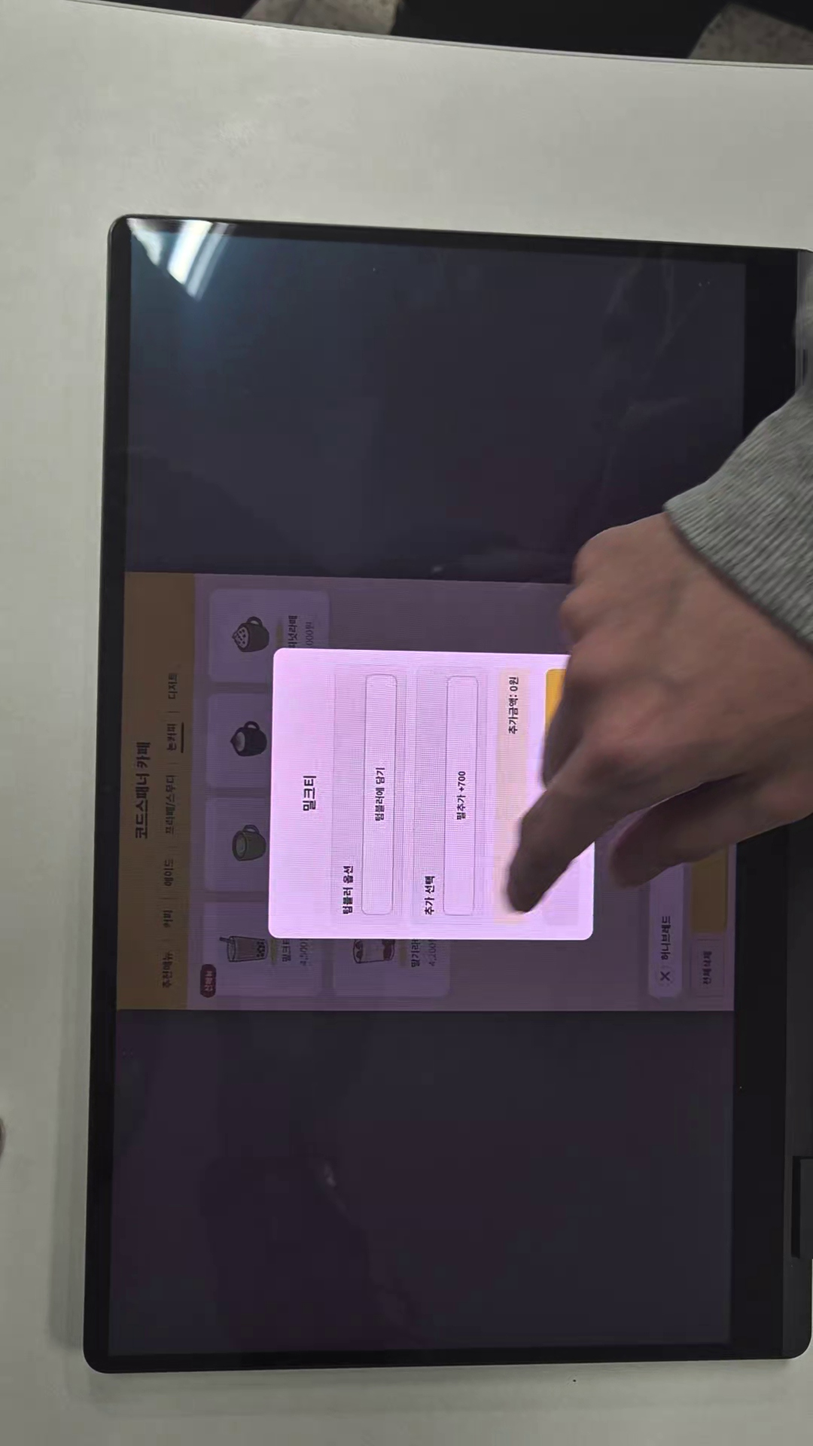option_button: (443, 673, 474, 915), (364, 672, 391, 914)
popup_modal: (267, 648, 598, 942)
